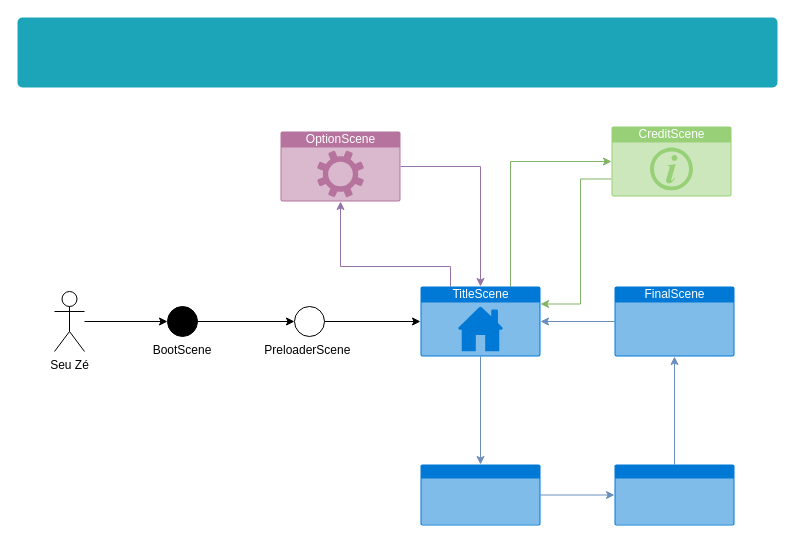
This 794x542 diagram has some shape labels left out. The centre of each missing label's shape, as x and y in pixels:
"Diagrama de Fluxo de Navegação" goes at (397,52).
"PinballScene" goes at (674,494).
"QuizlScene" goes at (480,494).
